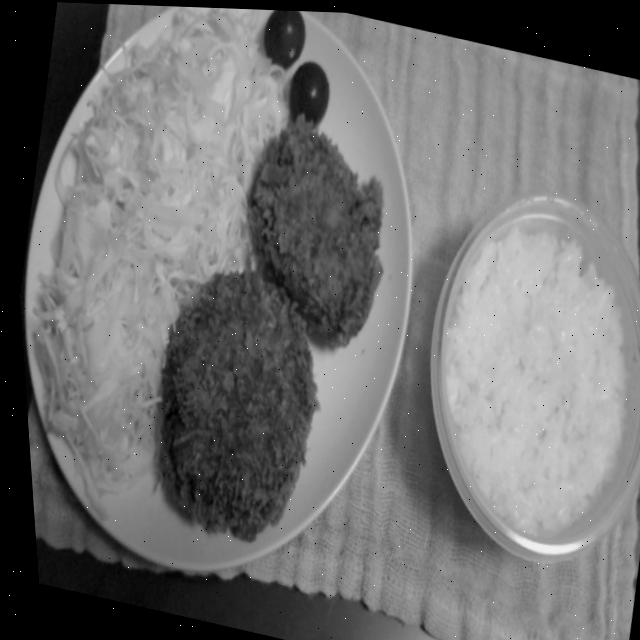炸货点心: (114, 104, 426, 558)
米饭主食: (381, 167, 640, 570)
